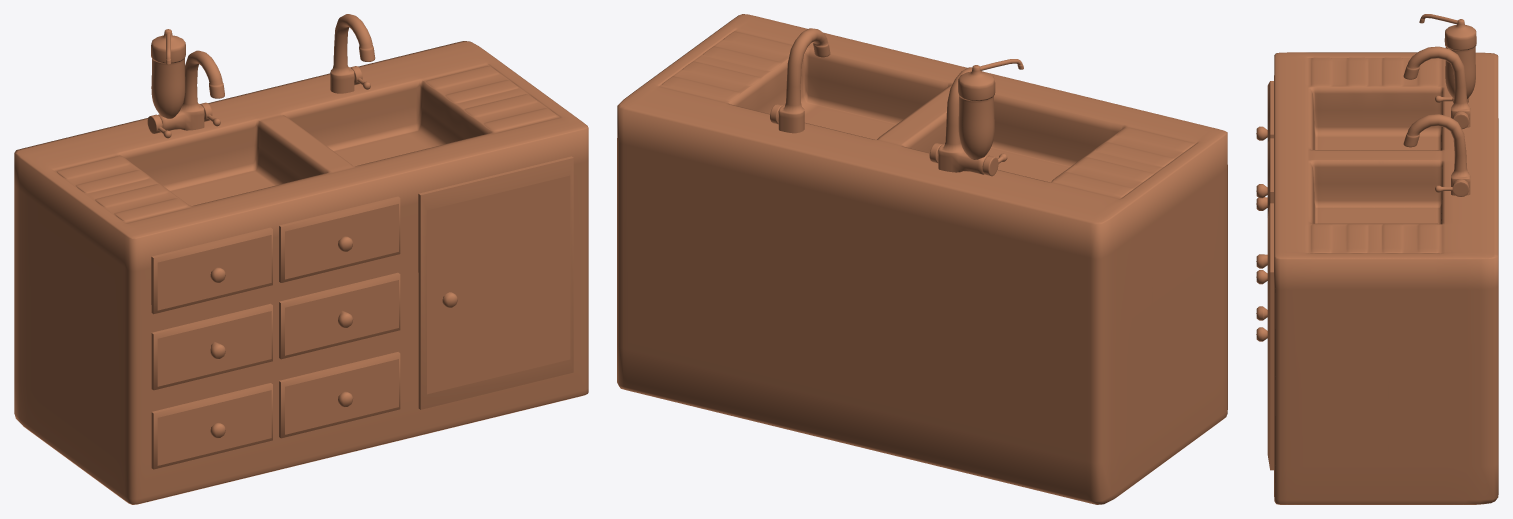
The model's file is sink1.glb.
3 views of the same model, side by side, from view 1: azimuth 30°, elevation 25°; view 2: azimuth 150°, elevation 25°; view 3: azimuth 270°, elevation 25° (orthographic). The views are drawn at different scales.
Visible parts, largest first — view 1: node_id5, node_id8; view 2: node_id5; view 3: node_id5, node_id8.
Part boxes in pixels (x1,y1,x2,y2): node_id5: (14, 14, 588, 504); node_id8: (151, 156, 573, 469); node_id5: (617, 14, 1227, 504); node_id5: (1274, 14, 1498, 504); node_id8: (1256, 81, 1273, 470).
Bounding box in the file's own units: 0.512 × 0.392 × 0.2527.
Materials: 2 (2 with a texture image).
